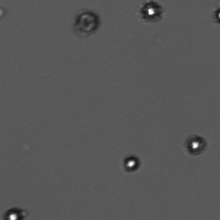Dead Cell: (70, 9, 103, 36)
Living Cell: (181, 131, 210, 157), (135, 1, 166, 22), (120, 151, 143, 173), (4, 204, 24, 219)
